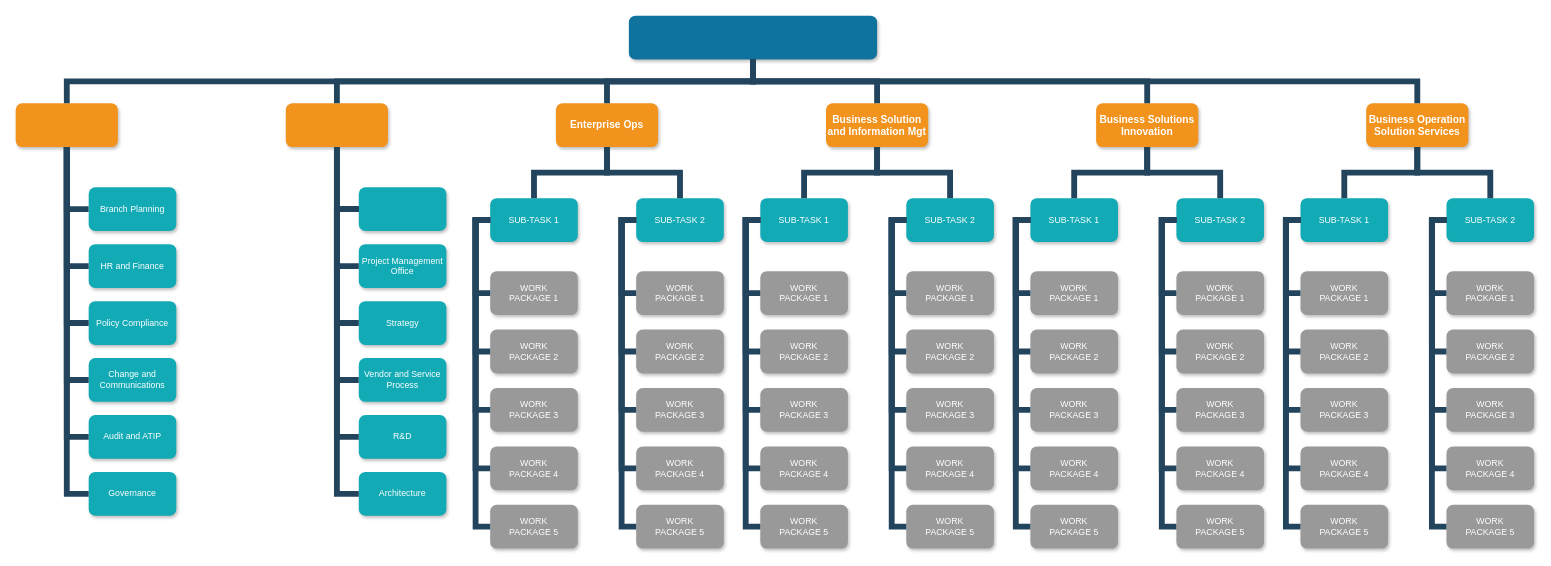
Image size: 1551x566. Some labels were removed from this diagram. Each missing label, with the centre of its shape:
Business Relations: [403,210]
CIO (ADM): [753,38]
Planning, Governance, Policy: [67,126]
Strategy, Architecture, Business Relations: [337,126]
